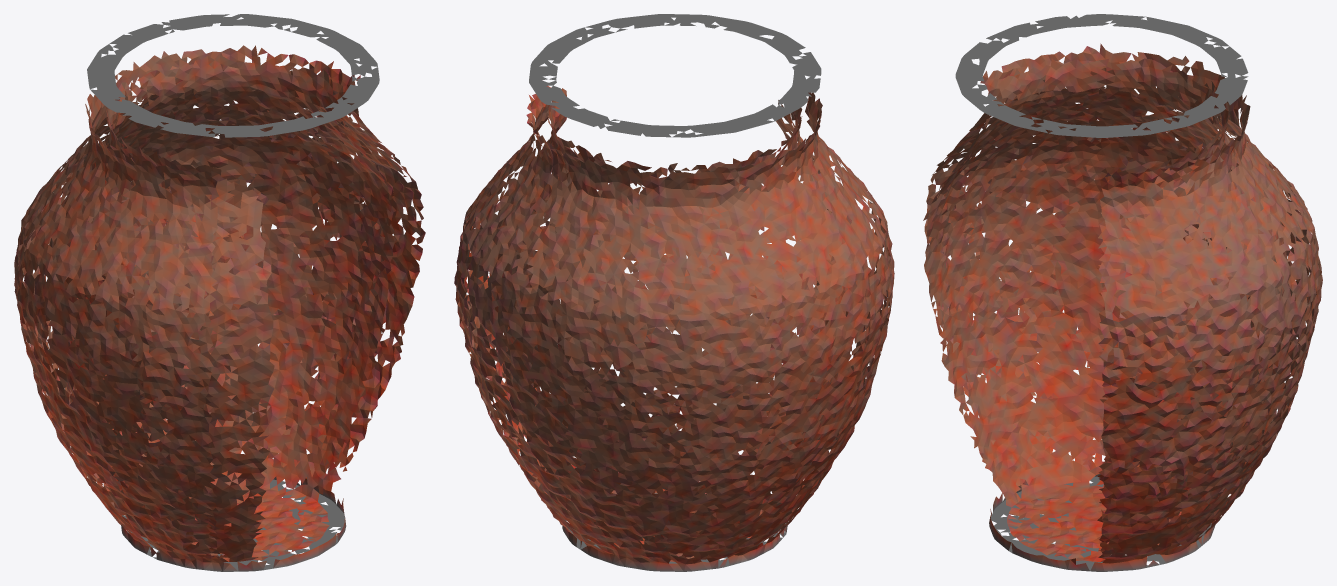
The model's file is vase_final100.obj.
The picture shows the model from 3 angles, left to right: view 1: azimuth 30°, elevation 25°; view 2: azimuth 150°, elevation 25°; view 3: azimuth 270°, elevation 25°; orthographic projection.
Size of the model in its own units: 1.51 by 1.69 by 1.37.
